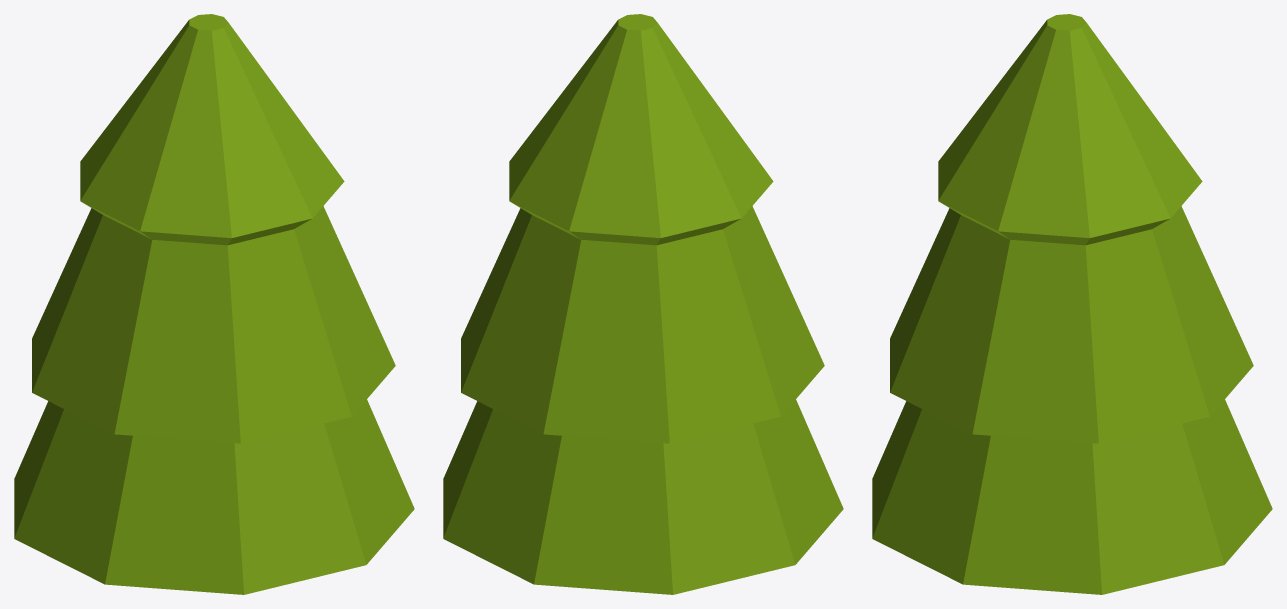
The model's file is tree-summer-leaves-002.glb.
3 views of the same model, side by side, from view 1: azimuth 30°, elevation 25°; view 2: azimuth 150°, elevation 25°; view 3: azimuth 270°, elevation 25° (orthographic).
Visible parts, largest first — view 1: Circle.001_220; view 2: Circle.001_220; view 3: Circle.001_220.
Boxes of the visible parts, x1,y1,x2,y2 form: Circle.001_220: [14, 14, 414, 594]; Circle.001_220: [443, 14, 843, 594]; Circle.001_220: [872, 14, 1272, 594].
Bounding box in the file's own units: 0.6484 × 0.8559 × 0.6386.
